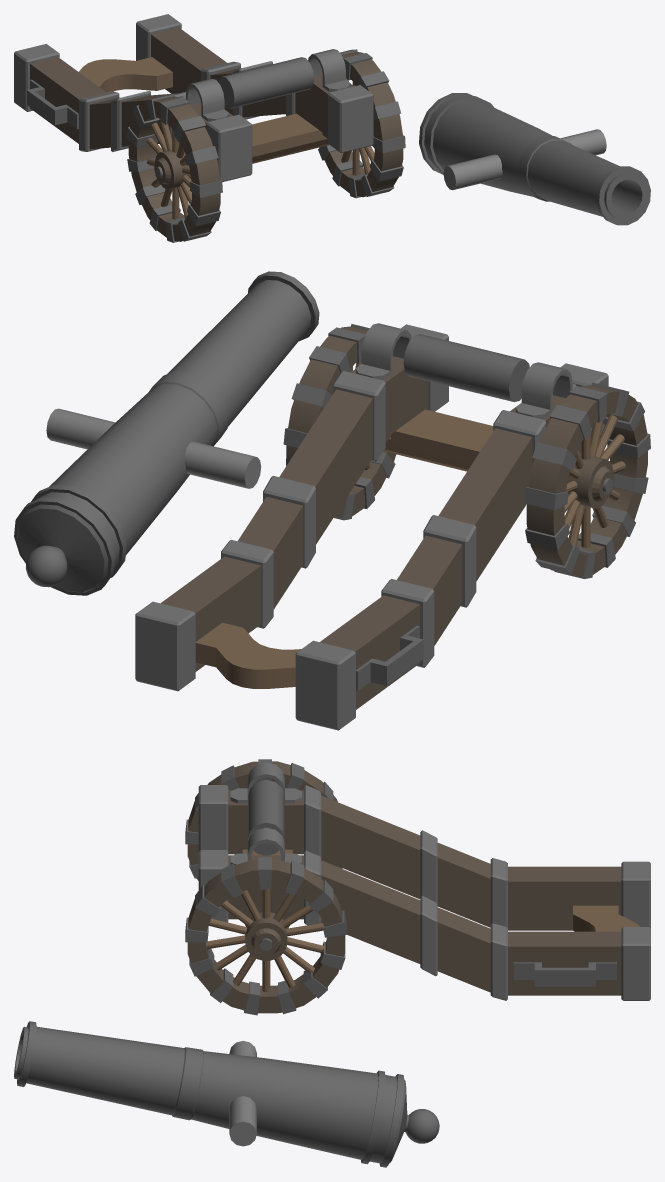
File: Cannon_Holder.fbx
The picture shows the model from 3 angles, top to bottom: view 1: azimuth 30°, elevation 25°; view 2: azimuth 150°, elevation 25°; view 3: azimuth 270°, elevation 25°; orthographic projection. The views are drawn at different scales.
Parts seen in each view (by area): view 1: Cannon_Holder, Cannon; view 2: Cannon_Holder, Cannon; view 3: Cannon_Holder, Cannon.
Boxes of the visible parts, x1,y1,x2,y2 form: Cannon_Holder: (14,14,405,242); Cannon: (419,93,650,225); Cannon_Holder: (135,323,650,730); Cannon: (14,271,319,595); Cannon_Holder: (185,759,650,1015); Cannon: (14,1021,439,1167).
Size of the model in its own units: 92.42 by 42.65 by 107.
